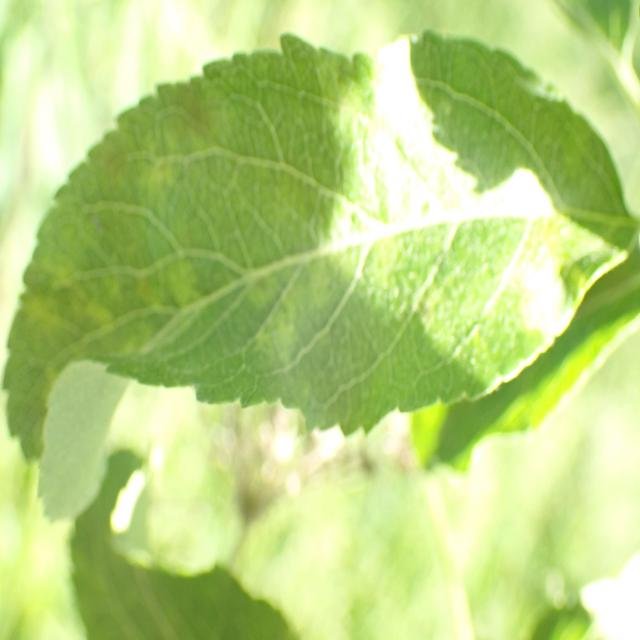scab: (12, 48, 604, 454)
